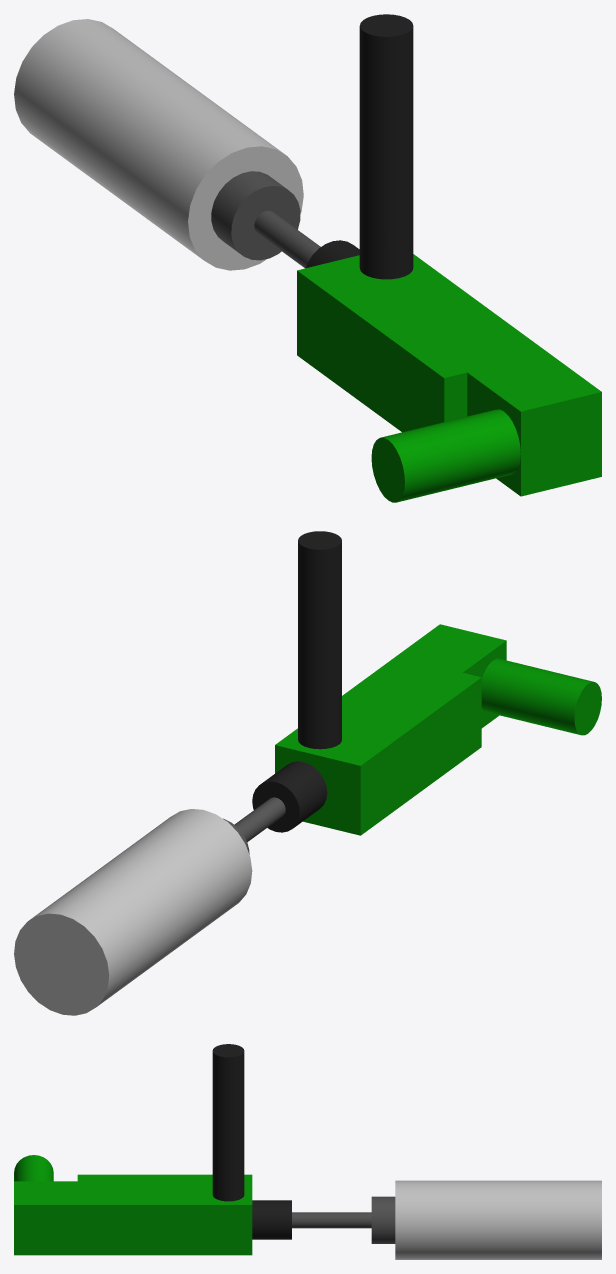
Rendered from RockDrill.dae.
3 views of the same model, one above another, from view 1: azimuth 30°, elevation 25°; view 2: azimuth 150°, elevation 25°; view 3: azimuth 270°, elevation 25° (orthographic). The views are drawn at different scales.
Visible parts, largest first — view 1: group_0 (×4), bit (×3); view 2: group_0 (×4), bit (×2); view 3: group_0 (×4), bit (×3).
Part boxes in pixels (left/top/right/bottom): group_0 (×4): left=297, top=14, right=601, bottom=502; bit (×3): left=14, top=19, right=320, bottom=270; group_0 (×4): left=252, top=531, right=601, bottom=835; bit (×2): left=14, top=797, right=285, bottom=1015; group_0 (×4): left=14, top=1044, right=291, bottom=1255; bit (×3): left=292, top=1180, right=601, bottom=1259.
Bounding box in the file's own units: 7.47 × 29.13 × 11.24.
